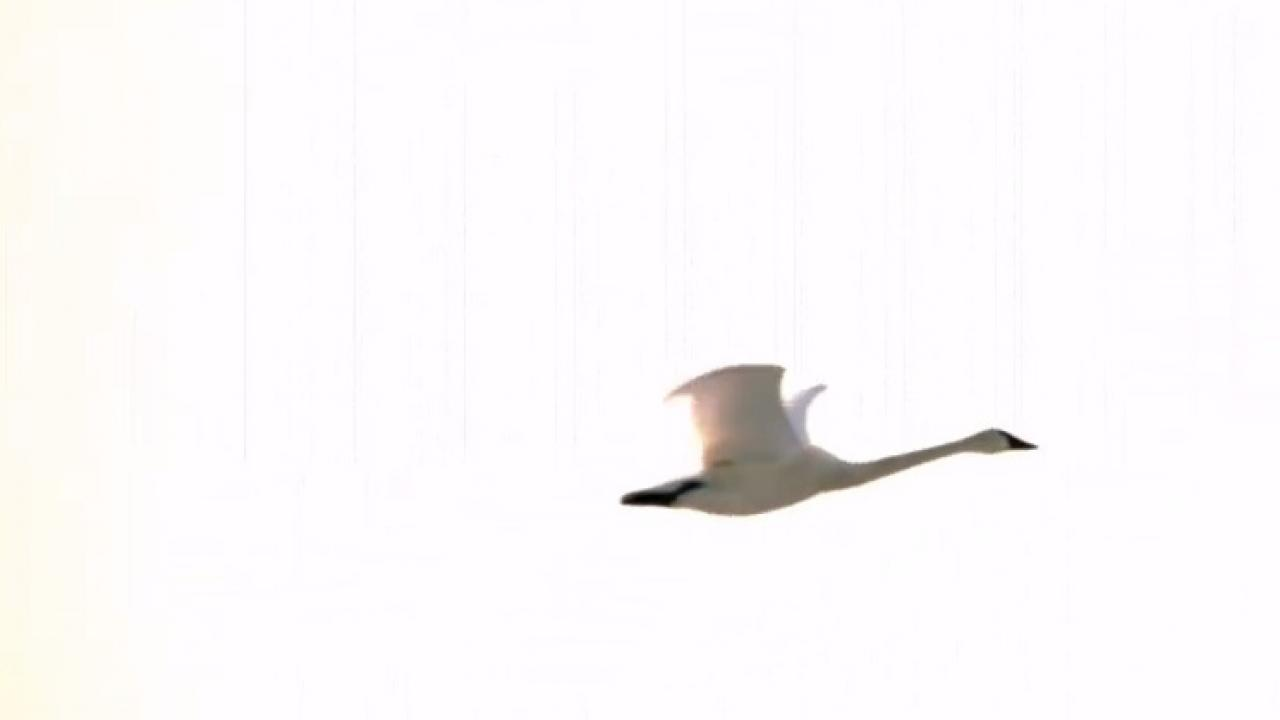Bird: (612, 352, 1046, 526)
